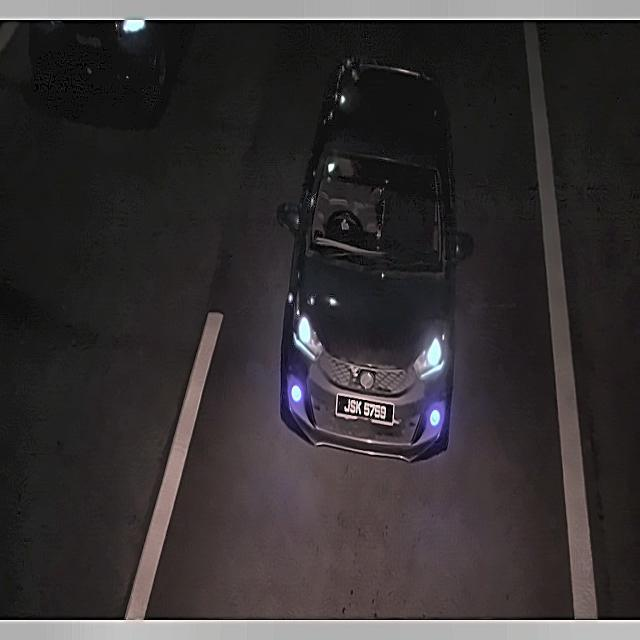car: (332, 386, 399, 432), (67, 28, 102, 56)
